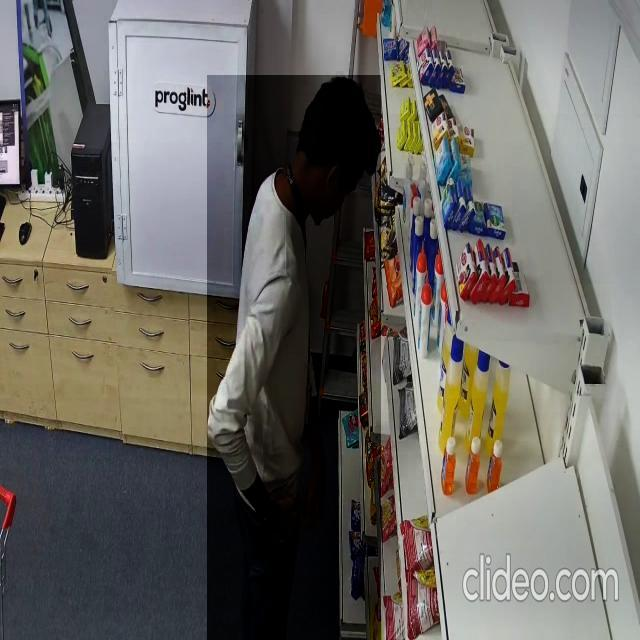Shoplifting: (207, 75, 381, 640)
